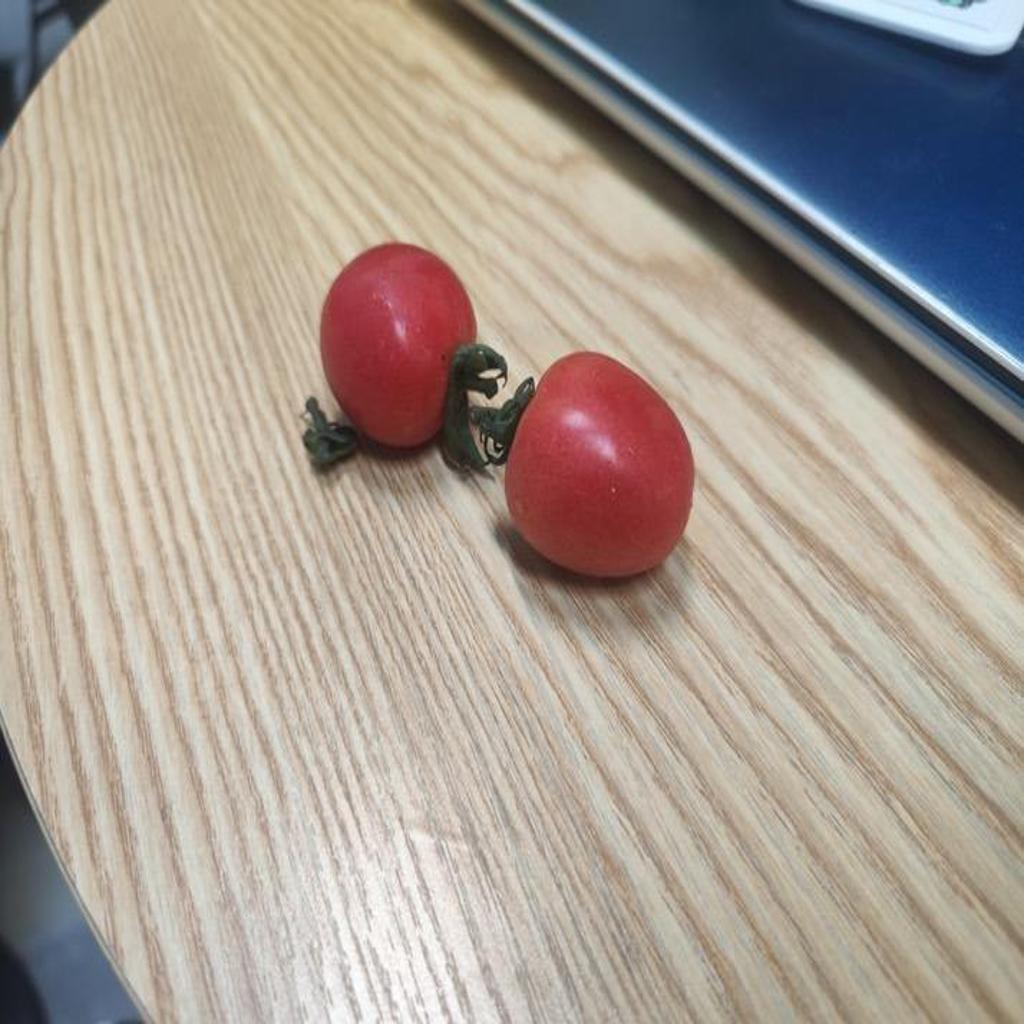tomato: (511, 351, 686, 584), (325, 247, 481, 448)
